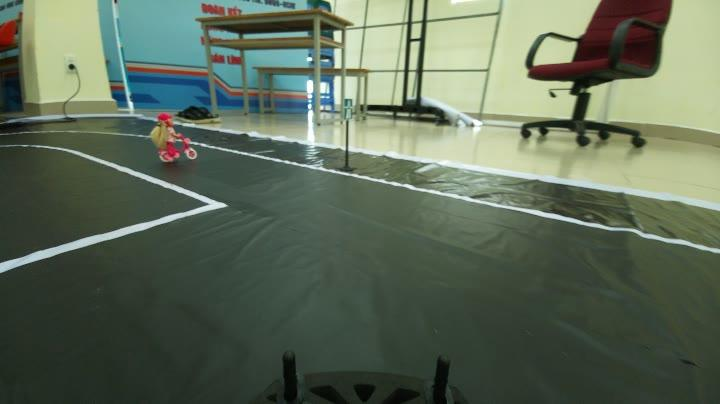highway_entry: (334, 95, 366, 124)
pedestrian: (148, 109, 206, 163)
